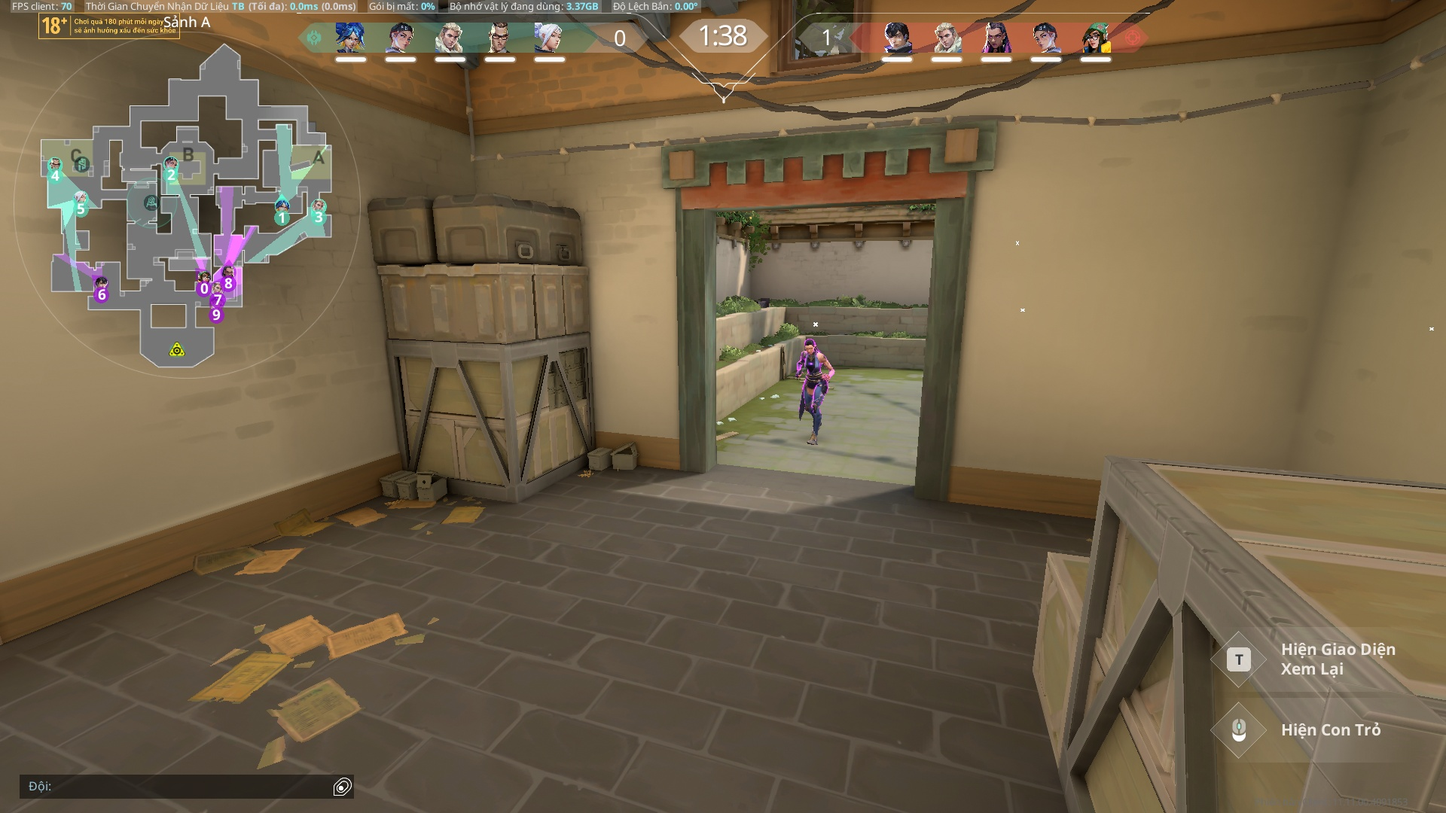body: (801, 351, 826, 374)
head: (802, 339, 819, 355)
